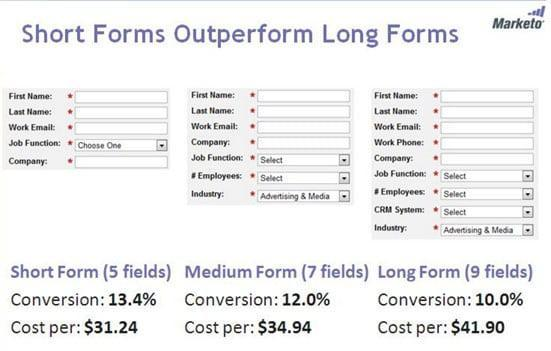dropdown: (442, 207, 535, 220), (77, 139, 169, 152), (442, 170, 534, 183), (441, 189, 535, 201), (258, 155, 351, 167), (441, 225, 534, 237), (259, 173, 350, 185), (259, 192, 351, 203)
input: (257, 89, 352, 104), (441, 136, 536, 151), (441, 152, 536, 167), (256, 104, 353, 118), (74, 106, 170, 120), (257, 121, 352, 135), (441, 91, 536, 105), (75, 123, 170, 136), (257, 137, 352, 150), (441, 122, 536, 135), (75, 156, 169, 169), (441, 107, 535, 120), (75, 93, 168, 104)
